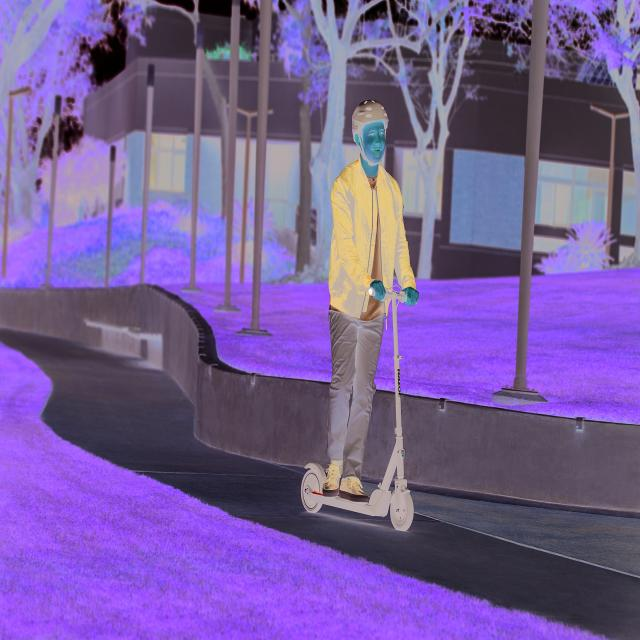helmet: (342, 100, 397, 168)
human: (326, 102, 419, 493)
kickboard: (302, 455, 423, 533)
